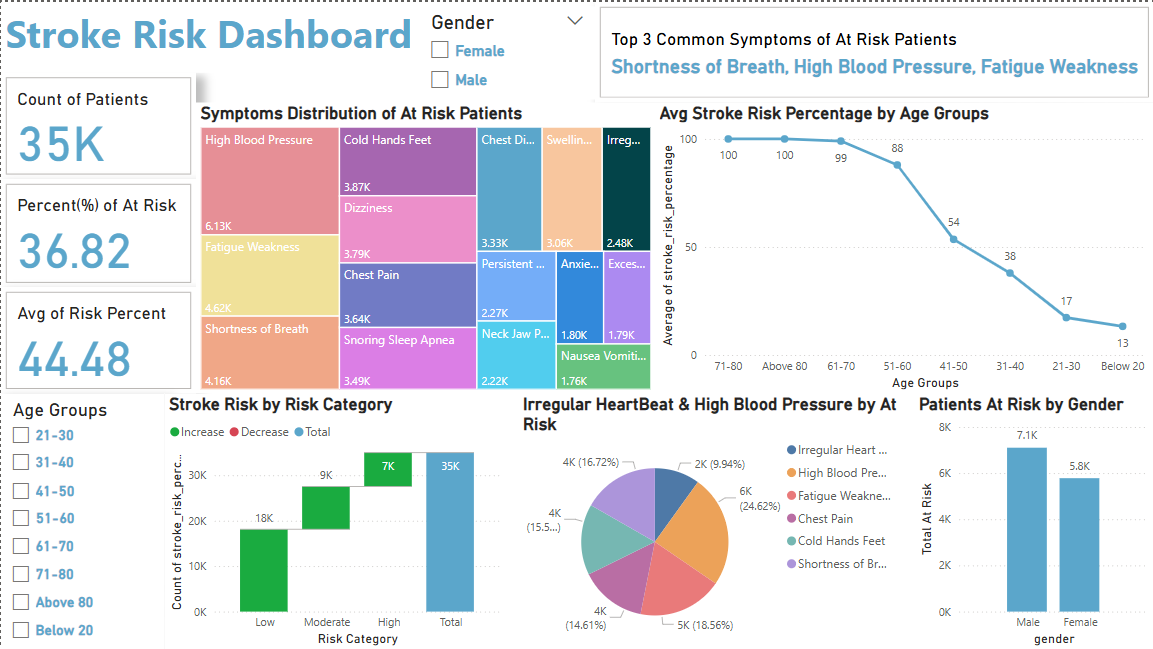

This screenshot's page, from the dashboard's own definition file:
{"tool":"powerbi","page":{"name":"Page 1","canvas":[1280,720],"ordinal":0},"visuals":[{"type":"cardVisual","fields":{"Data":["CountNonNull(stroke_risk_dataset_v2.gender)"]},"box":[0,78.3,216.7,118.3],"z":0},{"type":"cardVisual","fields":{"Data":["stroke_risk_dataset_v2.% of At Risk"]},"box":[0,196.7,216.7,120],"z":1000},{"type":"cardVisual","fields":{"Data":["Avg(stroke_risk_dataset_v2.stroke_risk_percentage)"]},"box":[0,316.7,216.7,118.3],"z":2000},{"type":"textbox","box":[0,0,465,78.3],"z":3000},{"type":"cardVisual","fields":{"Data":["SymptomCounts.Top3Symptoms"]},"box":[660,0,620,111.7],"z":4000},{"type":"slicer","fields":{"Values":["stroke_risk_dataset_v2.gender"]},"box":[465,5,195,103.3],"z":5000},{"type":"slicer","fields":{"Values":["stroke_risk_dataset_v2.Age Groups"]},"box":[0,435,181.7,285],"z":6000},{"type":"lineChart","title":"Avg Stroke Risk Percentage by Age Groups","fields":{"Category":["stroke_risk_dataset_v2.Age Groups"],"Y":["Avg(stroke_risk_dataset_v2.stroke_risk_percentage)"]},"box":[726.7,111.7,553.3,323.3],"z":7000},{"type":"columnChart","title":"Patients At Risk by Gender","fields":{"Category":["stroke_risk_dataset_v2.gender"],"Y":["Sum(stroke_risk_dataset_v2.at_risk)"]},"box":[1015,435,265,285],"z":8000},{"type":"treemap","title":"Symptoms Distribution of At Risk Patients","fields":{"Group":["SymptomCounts.Symptom"],"Values":["Avg(TopRiskSymptoms.Count)"]},"box":[216.7,111.7,510,323.3],"z":9000},{"type":"pieChart","title":"Irregular HeartBeat & High Blood Pressure by At Risk","fields":{"Y":["Sum(stroke_risk_dataset_v2.irregular_heartbeat)","Sum(stroke_risk_dataset_v2.high_blood_pressure)","Sum(stroke_risk_dataset_v2.fatigue_weakness)","Sum(stroke_risk_dataset_v2.chest_pain)","Sum(stroke_risk_dataset_v2.cold_hands_feet)","Sum(stroke_risk_dataset_v2.shortness_of_breath)"]},"box":[575,435,428.3,285],"z":10000},{"type":"waterfallChart","title":"Stroke Risk by Risk Category","fields":{"Category":["stroke_risk_dataset_v2.Risk Category"],"Y":["CountNonNull(stroke_risk_dataset_v2.stroke_risk_percentage)"]},"box":[181.7,435,378.3,285],"z":11000}]}

Visuals, with their boxes in screenshot pixels (x1, y1, x2, y2), scaled from the page's 1280x720 canvas onto the 1153x649 screenshot:
cardVisual - CountNonNull(stroke_risk_dataset_v2.gender): 0 71 195 177
cardVisual - stroke_risk_dataset_v2.% of At Risk: 0 177 195 285
cardVisual - Avg(stroke_risk_dataset_v2.stroke_risk_percentage): 0 285 195 392
textbox: 0 0 419 71
cardVisual - SymptomCounts.Top3Symptoms: 595 0 1152 101
slicer - stroke_risk_dataset_v2.gender: 419 5 595 98
slicer - stroke_risk_dataset_v2.Age Groups: 0 392 164 648
"Avg Stroke Risk Percentage by Age Groups" lineChart: 655 101 1152 392
"Patients At Risk by Gender" columnChart: 914 392 1152 648
"Symptoms Distribution of At Risk Patients" treemap: 195 101 655 392
"Irregular HeartBeat & High Blood Pressure by At Risk" pieChart: 518 392 904 648
"Stroke Risk by Risk Category" waterfallChart: 164 392 504 648
